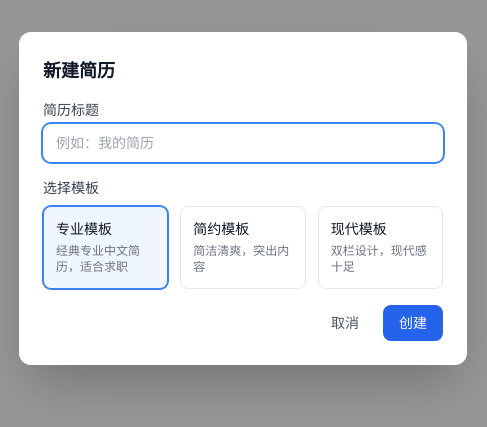
Test case: CreateResumeModal › should show error when creating with empty title
Click the button "创建" at x=413, y=322, box [383,304,443,340]
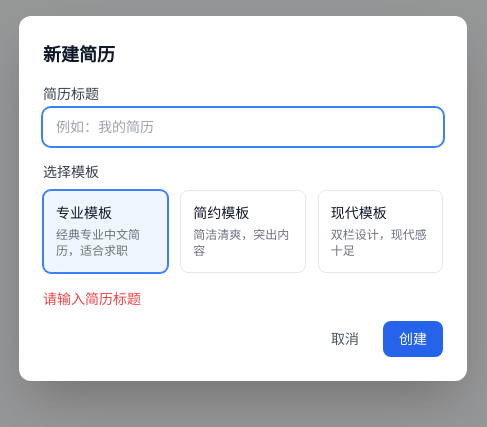
Expected: the text "请输入简历标题" is shown, [43,288,141,308]
